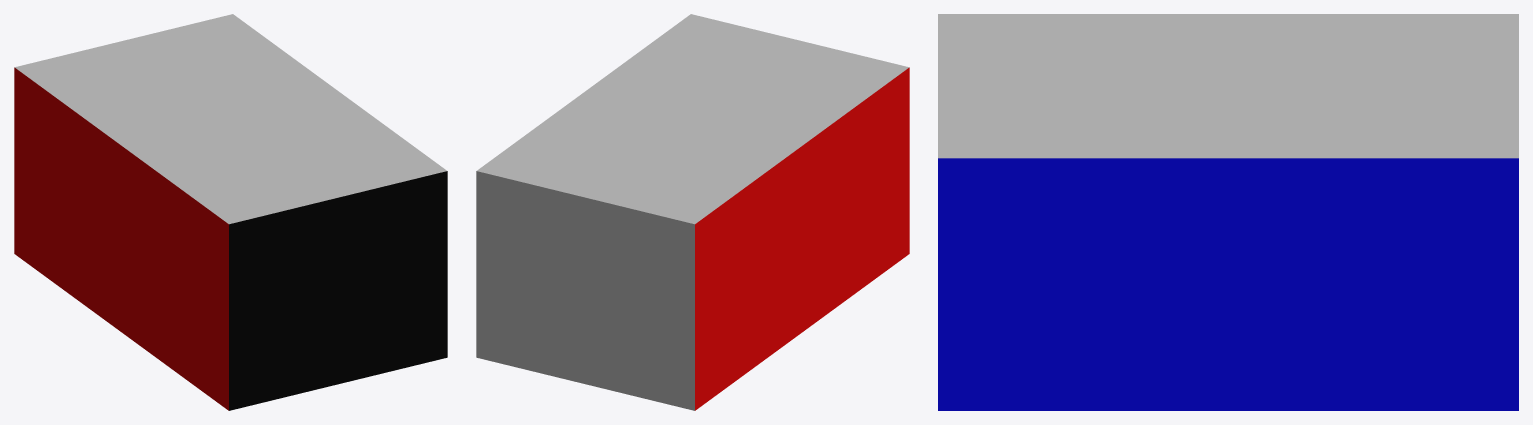
Rendered from room.obj.
3 renders of one model, left to right at view 1: azimuth 30°, elevation 25°; view 2: azimuth 150°, elevation 25°; view 3: azimuth 270°, elevation 25°, orthographic. The views are drawn at different scales.
Parts seen in each view (by area): view 1: room; view 2: room; view 3: room.
Boxes of the visible parts, x1,y1,x2,y2 form: room: (14, 14, 447, 410); room: (476, 14, 909, 410); room: (938, 14, 1518, 410).
Bounding box in the file's own units: 100 × 81.6 × 170.
